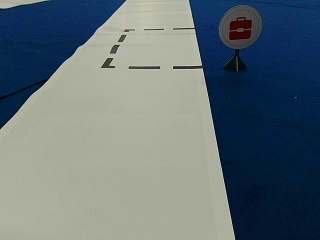company: (219, 5, 263, 48)
